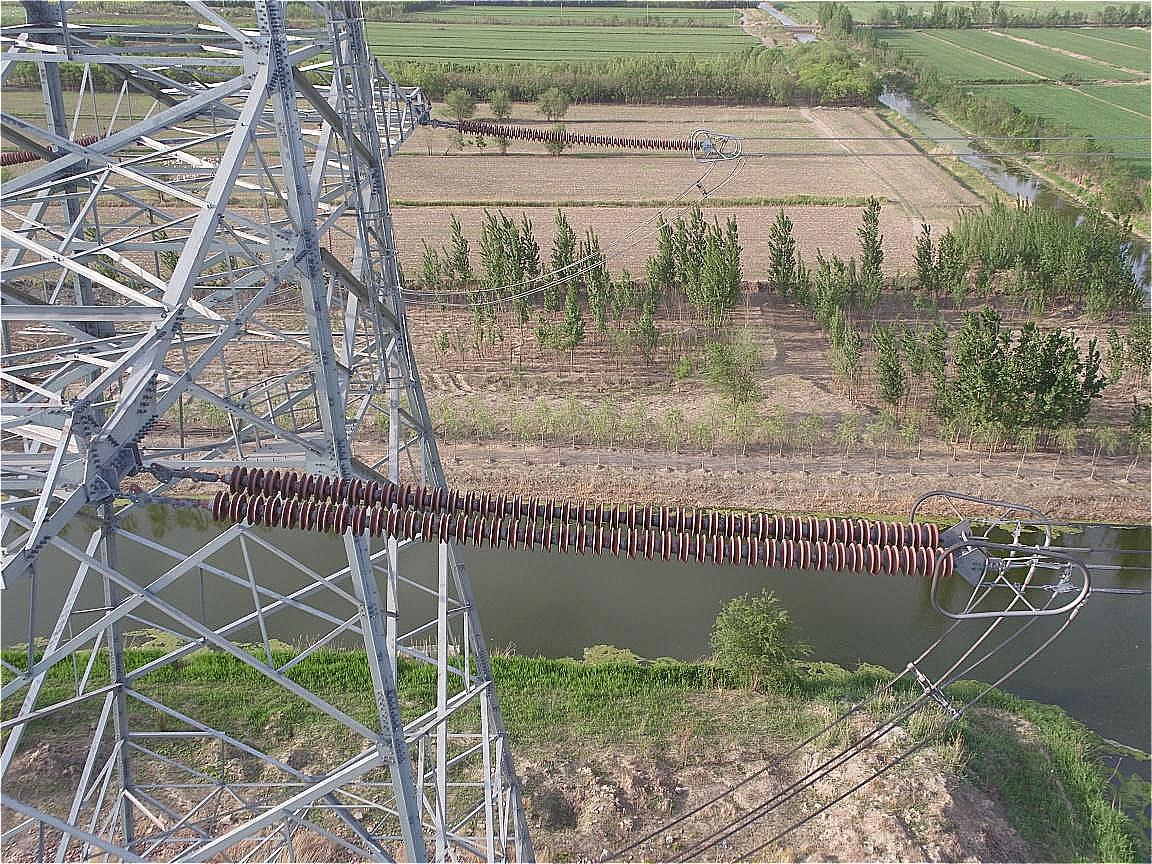insultor2: (188, 457, 956, 588), (454, 106, 709, 153)
